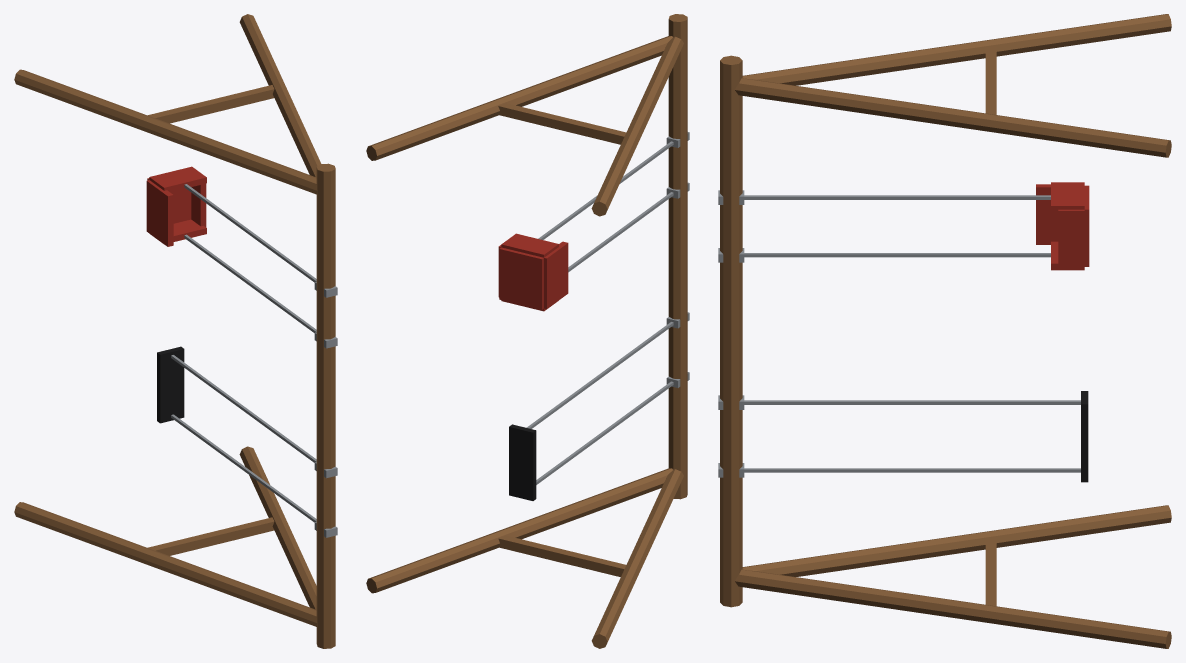
Rendered from playground-swing.glb.
3 views of the same model, side by side, from view 1: azimuth 30°, elevation 25°; view 2: azimuth 150°, elevation 25°; view 3: azimuth 270°, elevation 25° (orthographic). The views are drawn at different scales.
Visible parts, largest first — view 1: playground-swing; view 2: playground-swing; view 3: playground-swing.
Part boxes in pixels (box(x1,y1,x2,y2)): playground-swing: box(14, 14, 337, 648); playground-swing: box(366, 14, 689, 648); playground-swing: box(718, 14, 1171, 648).
Size of the model in its own units: 1.69 by 3.2 by 2.43.
